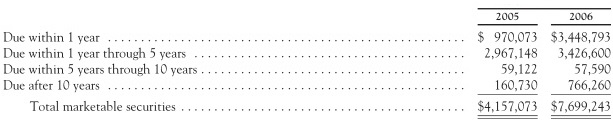column: (3, 1, 464, 120), (550, 1, 612, 119), (477, 1, 538, 120)
row: (1, 47, 613, 60), (1, 63, 613, 76), (1, 79, 613, 92), (1, 100, 613, 113), (1, 31, 613, 42), (1, 12, 613, 22)
